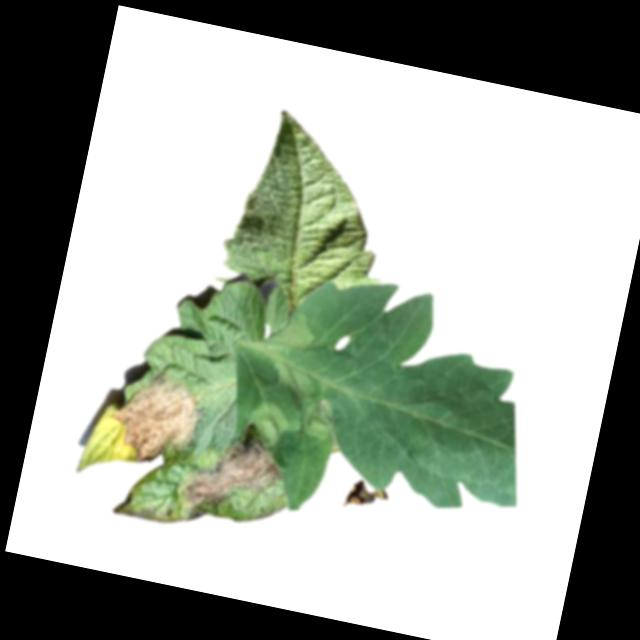Late_blight: (97, 364, 210, 477), (174, 413, 290, 523), (259, 305, 317, 361), (237, 395, 292, 451), (265, 352, 318, 396), (296, 394, 338, 442), (341, 476, 382, 517)
healthy: (212, 101, 411, 321)
